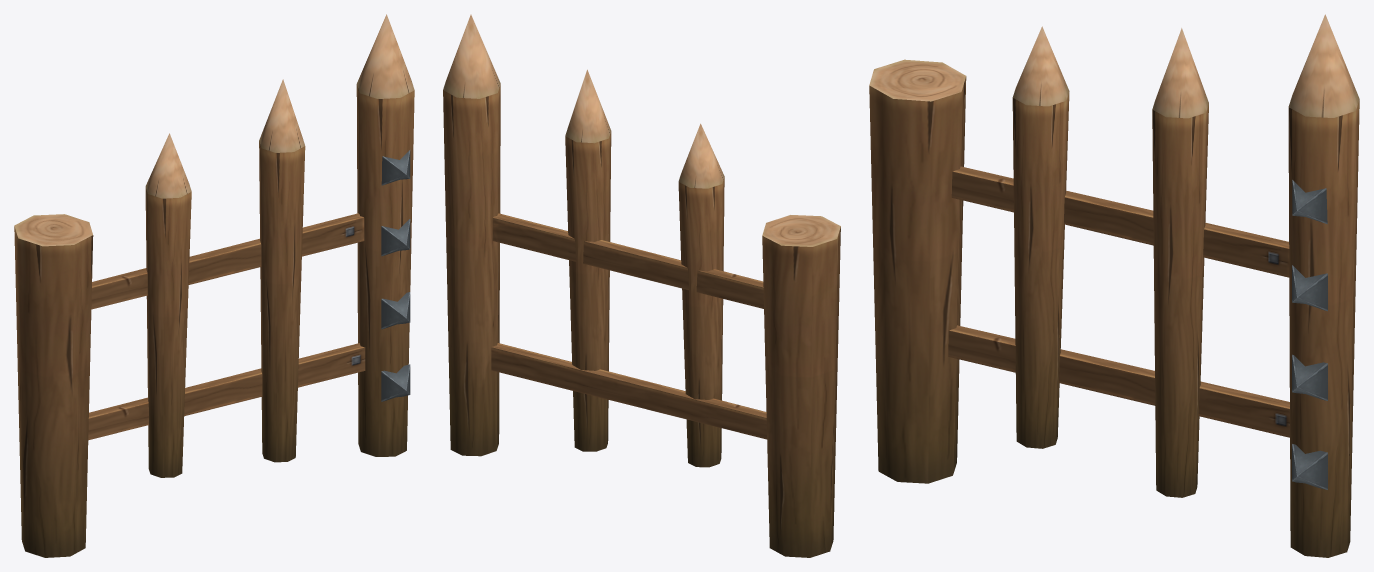
Rendered from gates_05_left.fbx.
3 views of the same model, side by side, from view 1: azimuth 30°, elevation 25°; view 2: azimuth 150°, elevation 25°; view 3: azimuth 330°, elevation 25° (orthographic). The views are drawn at different scales.
Parts seen in each view (by area): view 1: gates_05_left:Mesh; view 2: gates_05_left:Mesh; view 3: gates_05_left:Mesh.
Boxes of the visible parts, left/top/right/bottom form: gates_05_left:Mesh: left=14, top=14, right=414, bottom=557; gates_05_left:Mesh: left=443, top=14, right=840, bottom=557; gates_05_left:Mesh: left=869, top=14, right=1359, bottom=557.
Size of the model in its own units: 4.38 by 4.79 by 0.8172.
